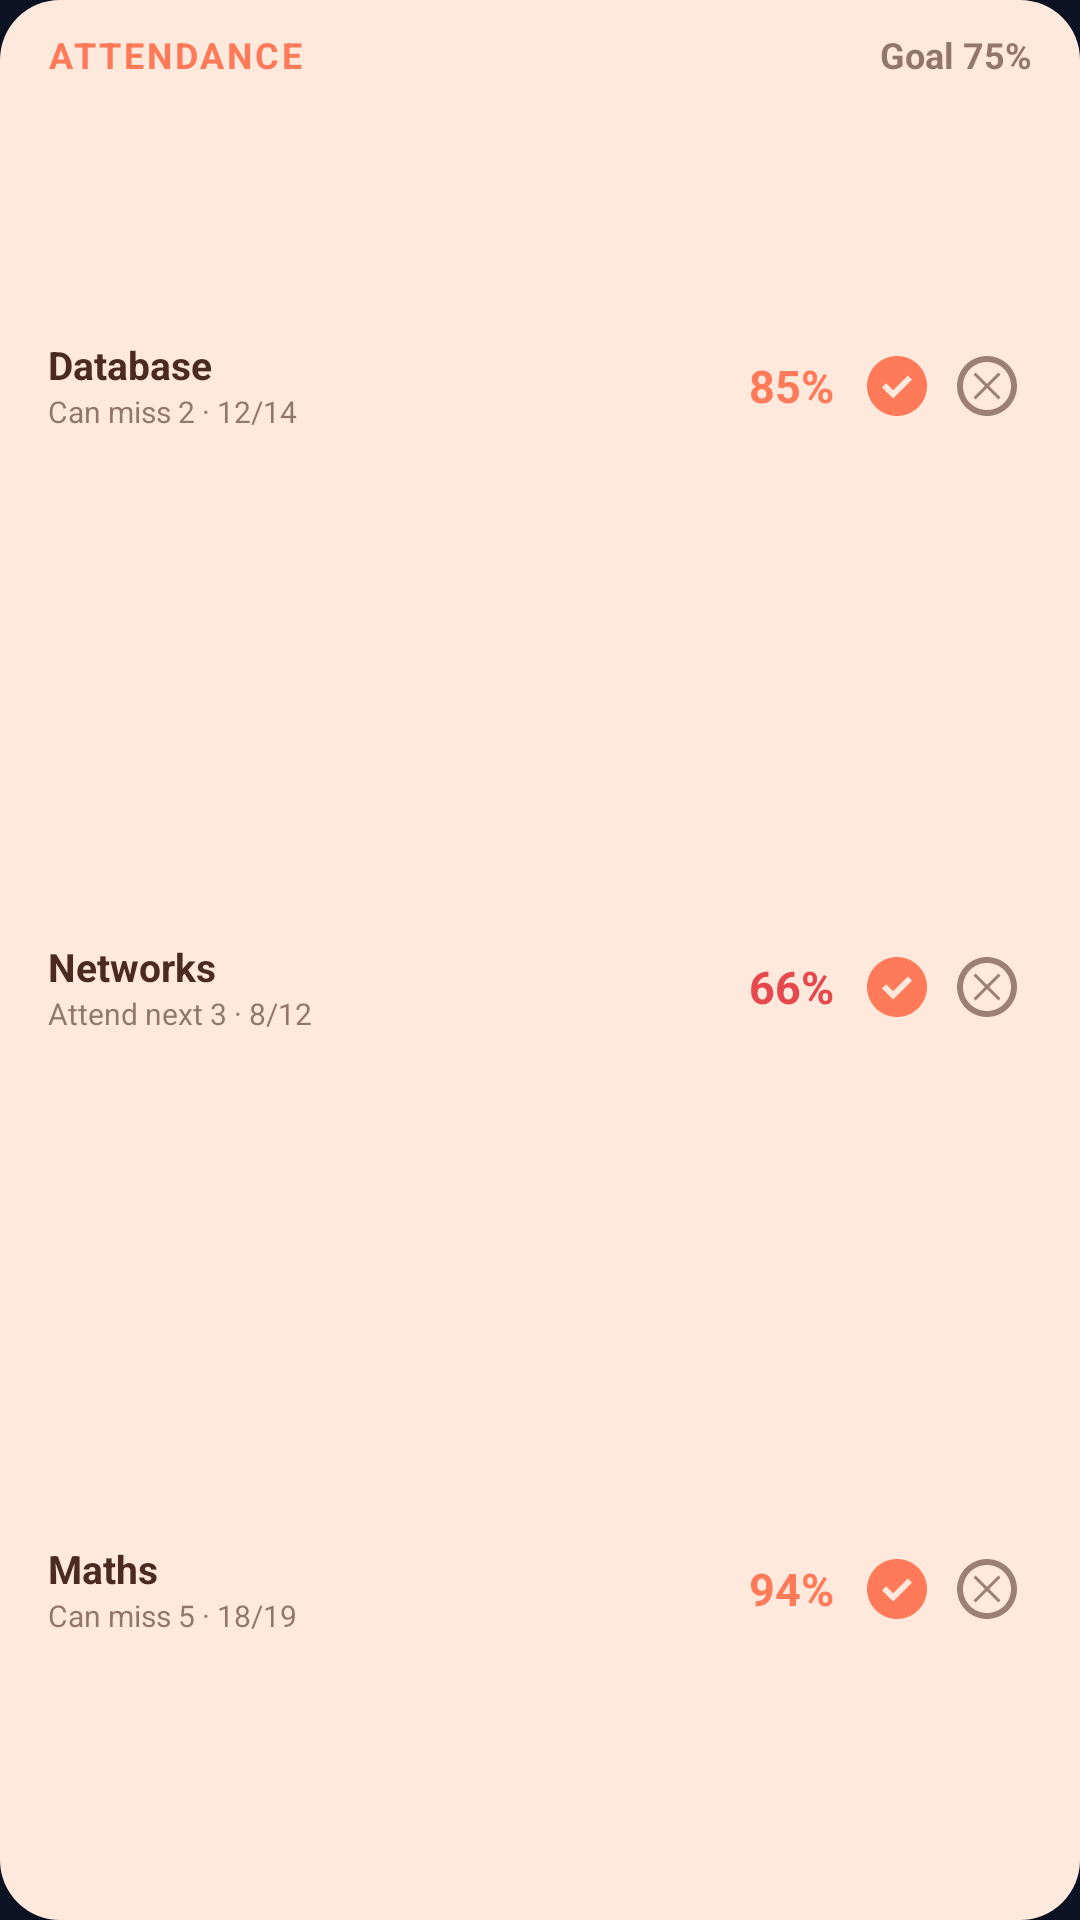

Where icons sit on this 1080×1920 app screen, as [x1=x1, y1=y1, x2=x2, y2=y2]:
check on: [x1=867, y1=356, x2=927, y2=416], [x1=867, y1=957, x2=927, y2=1017], [x1=867, y1=1559, x2=927, y2=1619]
cross: [x1=957, y1=356, x2=1017, y2=416], [x1=957, y1=957, x2=1017, y2=1017], [x1=957, y1=1559, x2=1017, y2=1619]
